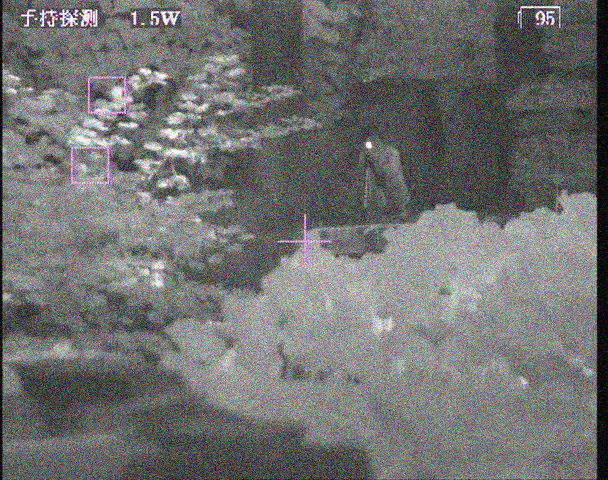my: (366, 141, 374, 151)
